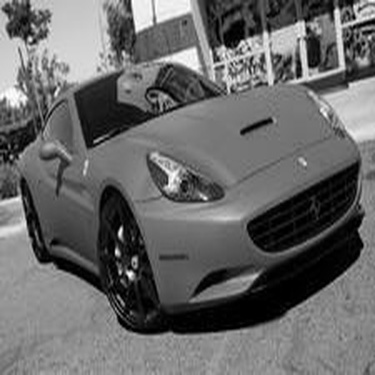car: (15, 45, 375, 327)
